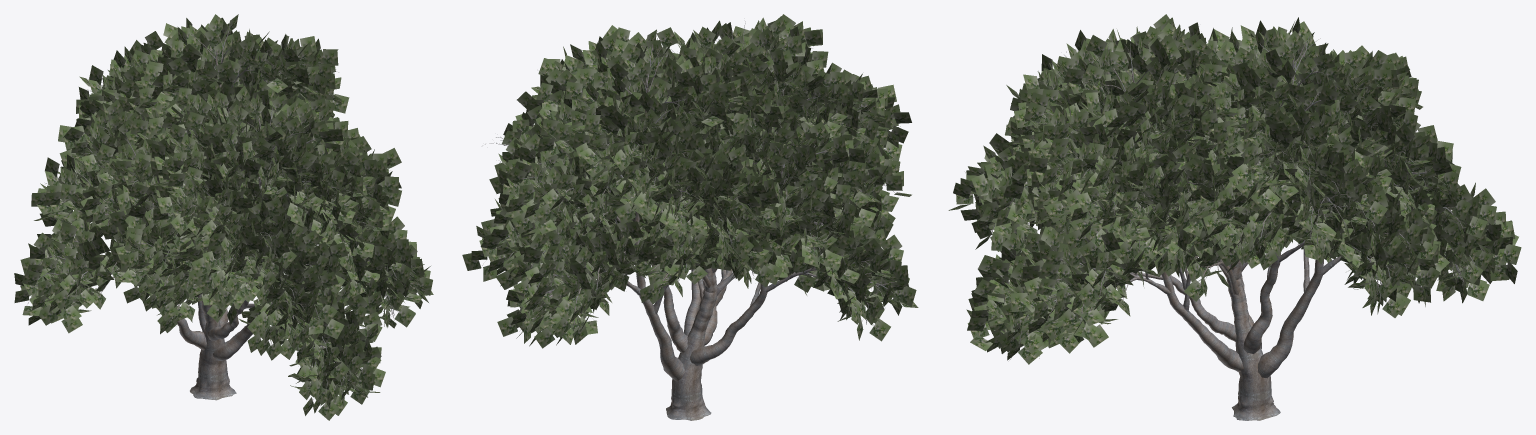
The model's file is MESH_WE17_QuercusAgrifolia_A_LOD0.fbx.
3 renders of one model, left to right at view 1: azimuth 30°, elevation 25°; view 2: azimuth 150°, elevation 25°; view 3: azimuth 270°, elevation 25°, orthographic. The views are drawn at different scales.
Parts seen in each view (by area): view 1: MI_LOD0_001, MI_LOD0; view 2: MI_LOD0_001, MI_LOD0; view 3: MI_LOD0_001, MI_LOD0.
Part boxes in pixels (<box>): MI_LOD0_001: <box>14,14,433,420</box>; MI_LOD0: <box>28,24,424,401</box>; MI_LOD0_001: <box>462,14,918,348</box>; MI_LOD0: <box>482,21,902,420</box>; MI_LOD0_001: <box>948,14,1521,364</box>; MI_LOD0: <box>960,32,1506,420</box>.
Bounding box in the file's own units: 2250 × 2105 × 2782.
